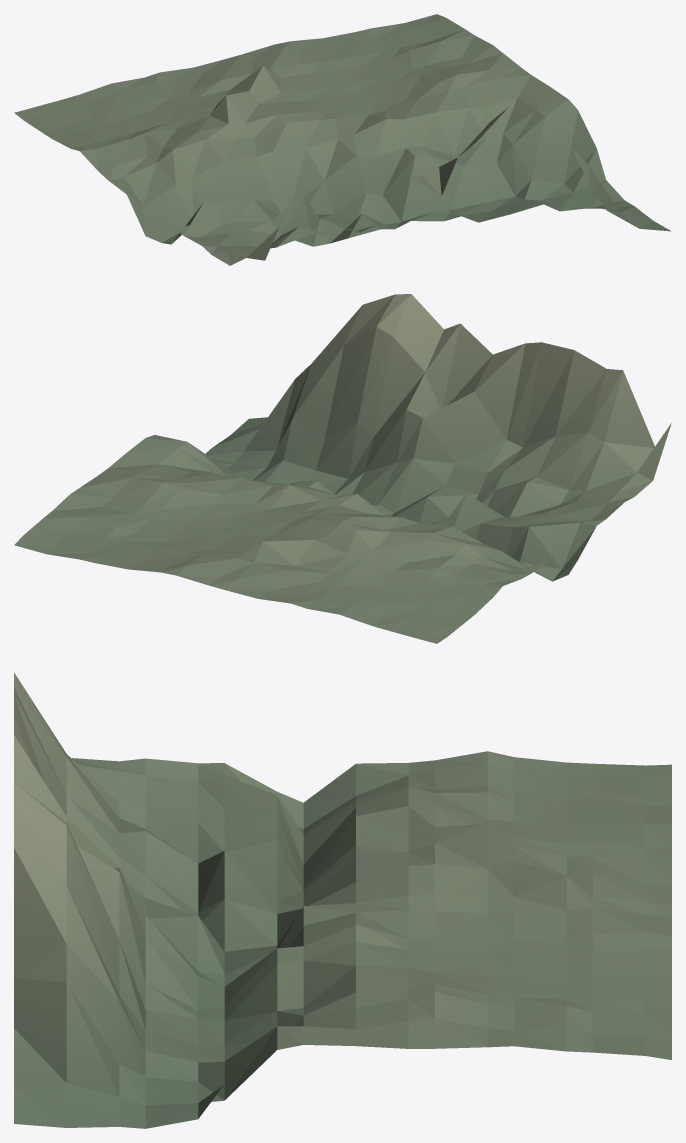
Rendered from tile_3_1.glb.
3 renders of one model, top to bottom at view 1: azimuth 30°, elevation 25°; view 2: azimuth 150°, elevation 25°; view 3: azimuth 270°, elevation 25°, orthographic. The views are drawn at different scales.
Visible parts, largest first — view 1: geometry_0; view 2: geometry_0; view 3: geometry_0.
Boxes of the visible parts, x1,y1,x2,y2 form: geometry_0: [14, 14, 670, 265]; geometry_0: [14, 294, 671, 643]; geometry_0: [14, 672, 671, 1128].
Bounding box in the file's own units: 127 × 48.37 × 123.
